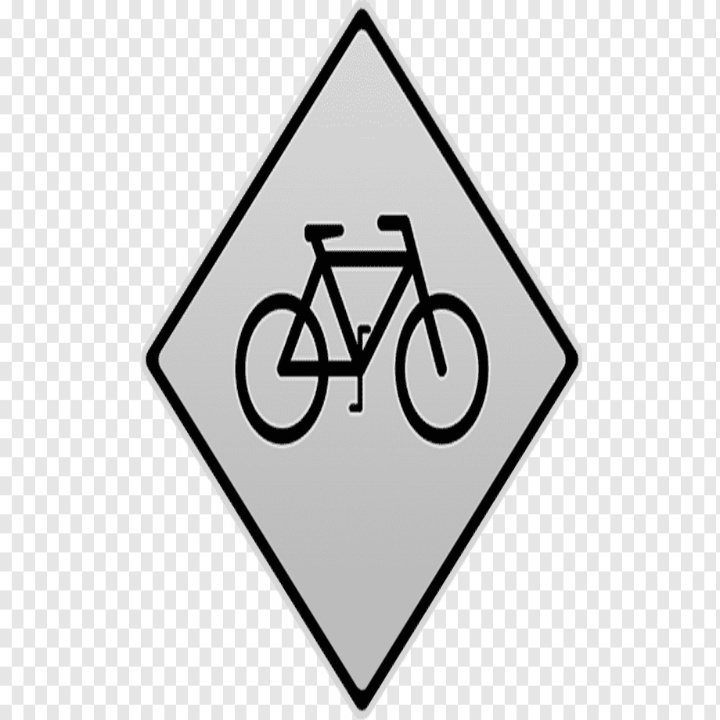bicycle: (223, 201, 505, 459)
